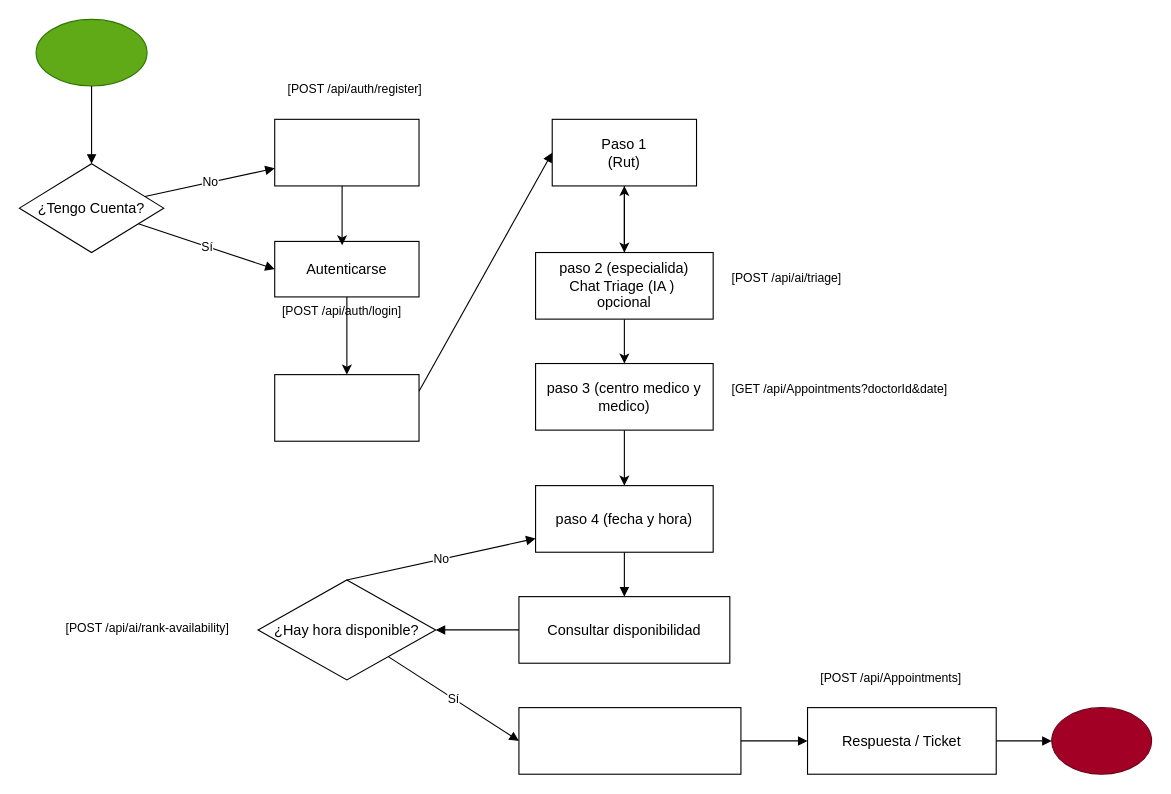
Some shapes in this 1171 by 794 pixel diagram are drawn without their labels. The centre of each missing label's shape, as x and y in pixels:
"Confirmar creación de cita" goes at pixel 629 740.
"Fin" goes at pixel 1101 740.
"ingresar a opcion agendar" goes at pixel 346 407.
"Inicio" goes at pixel 91 52.
"Registrarse" goes at pixel 346 152.
